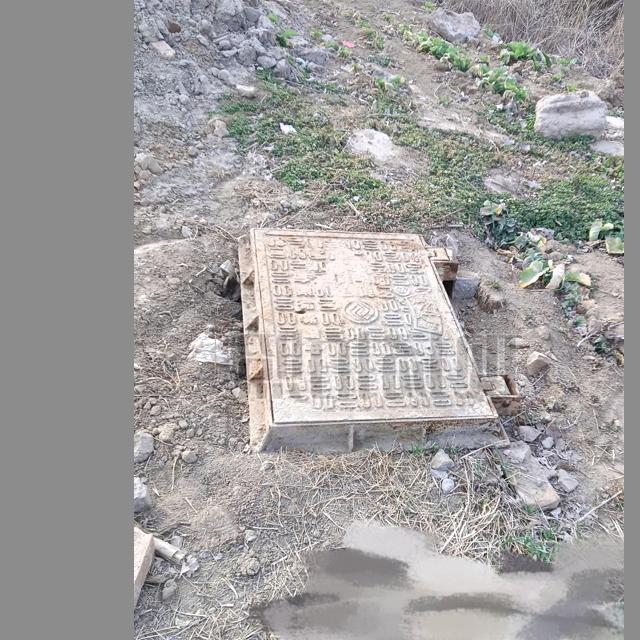circle: (229, 220, 521, 458)
